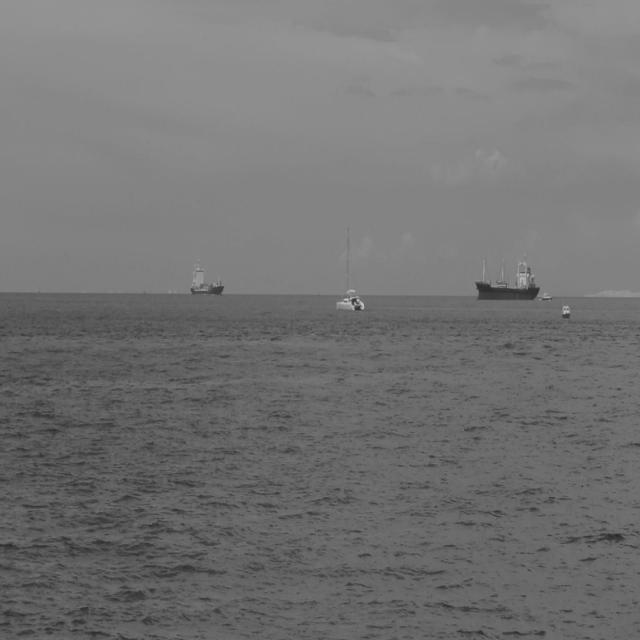ship: (472, 250, 541, 302), (335, 220, 366, 312), (188, 258, 226, 297), (560, 301, 572, 320), (538, 291, 554, 301)
